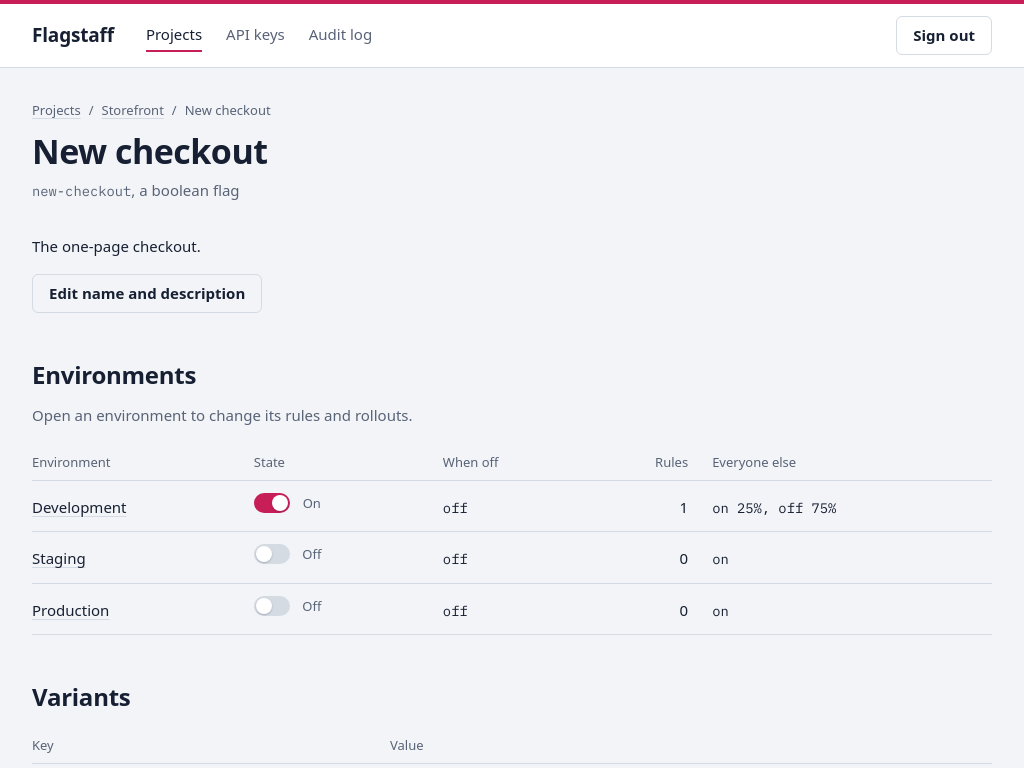
Test case: editing a flag's name and description › saves them against the version on screen
Click the button "Edit name and description" at (147, 293), box [32,274,262,313]
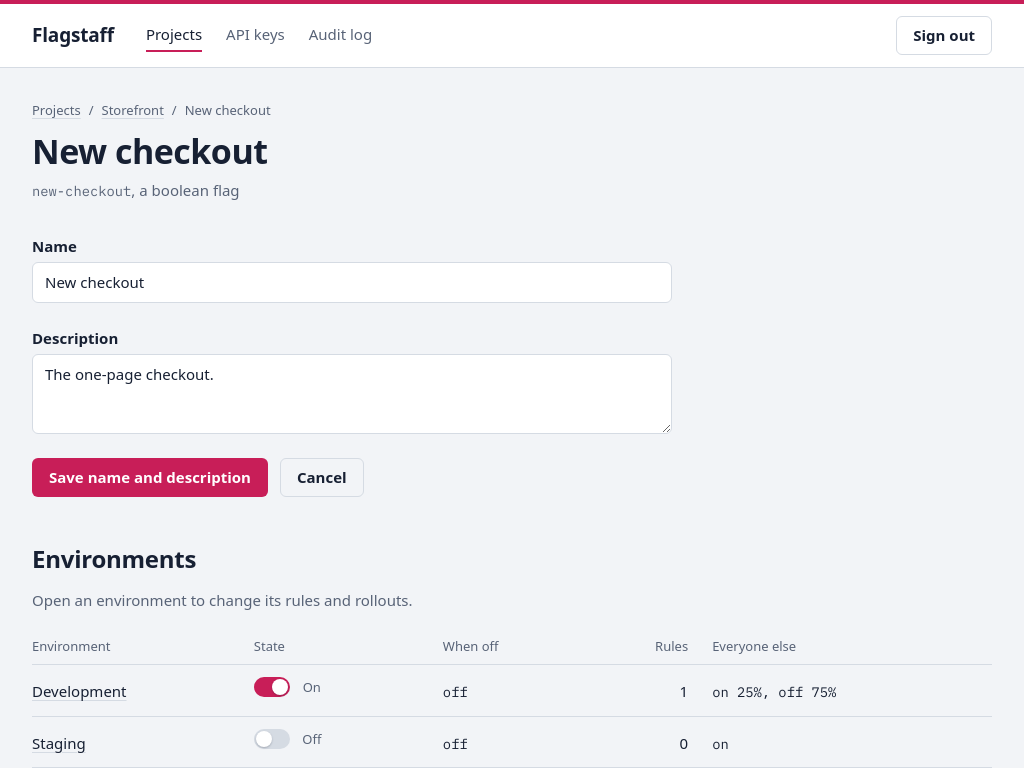
Replace the text in the field labelled "Name" with "One-page checkout" at (352, 283), box [32,262,672,303]
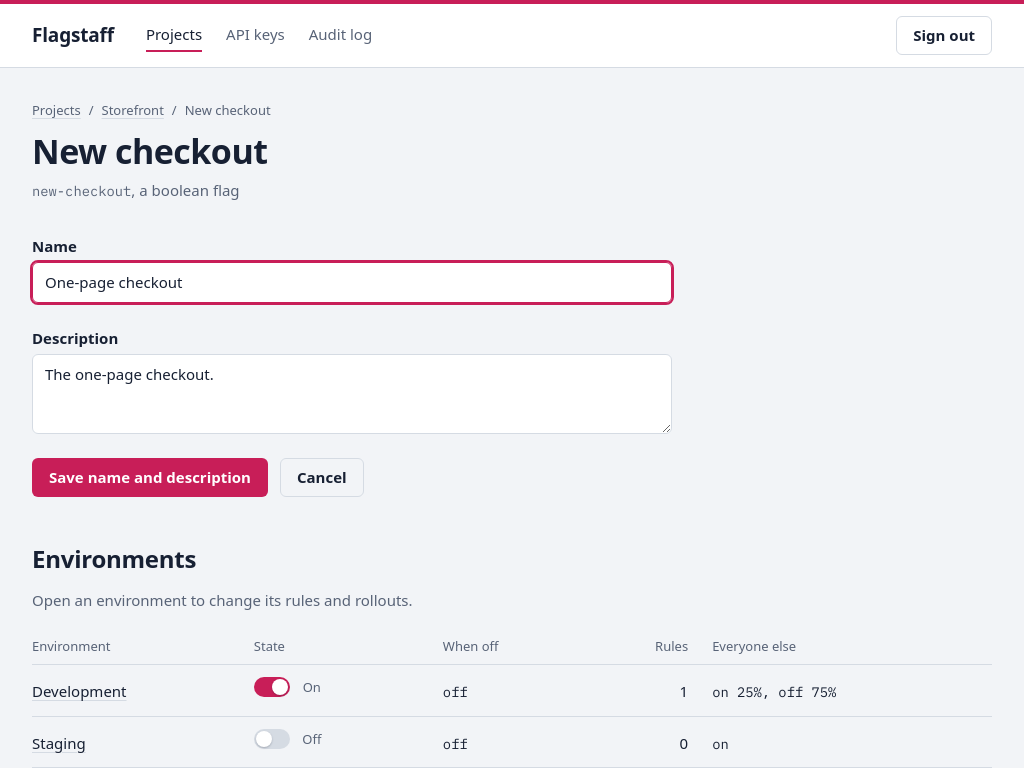
Click the button "Save name and description" at (150, 478), box [32,458,268,497]
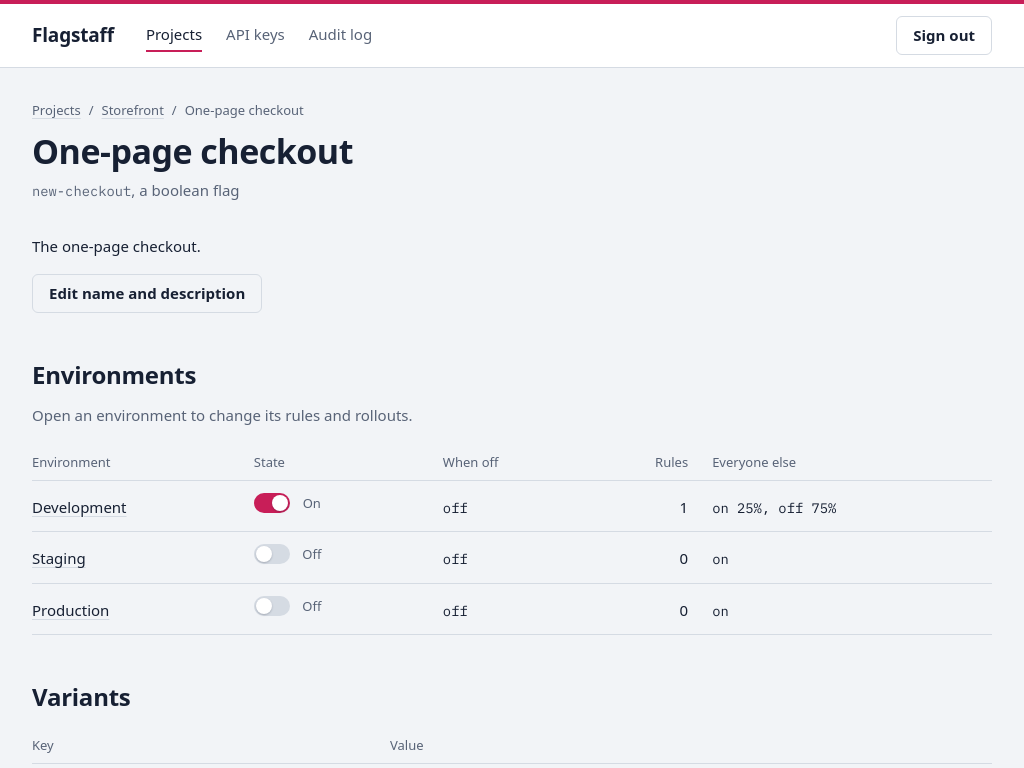
Now the heading "One-page checkout" is shown, box [32,128,353,174]
